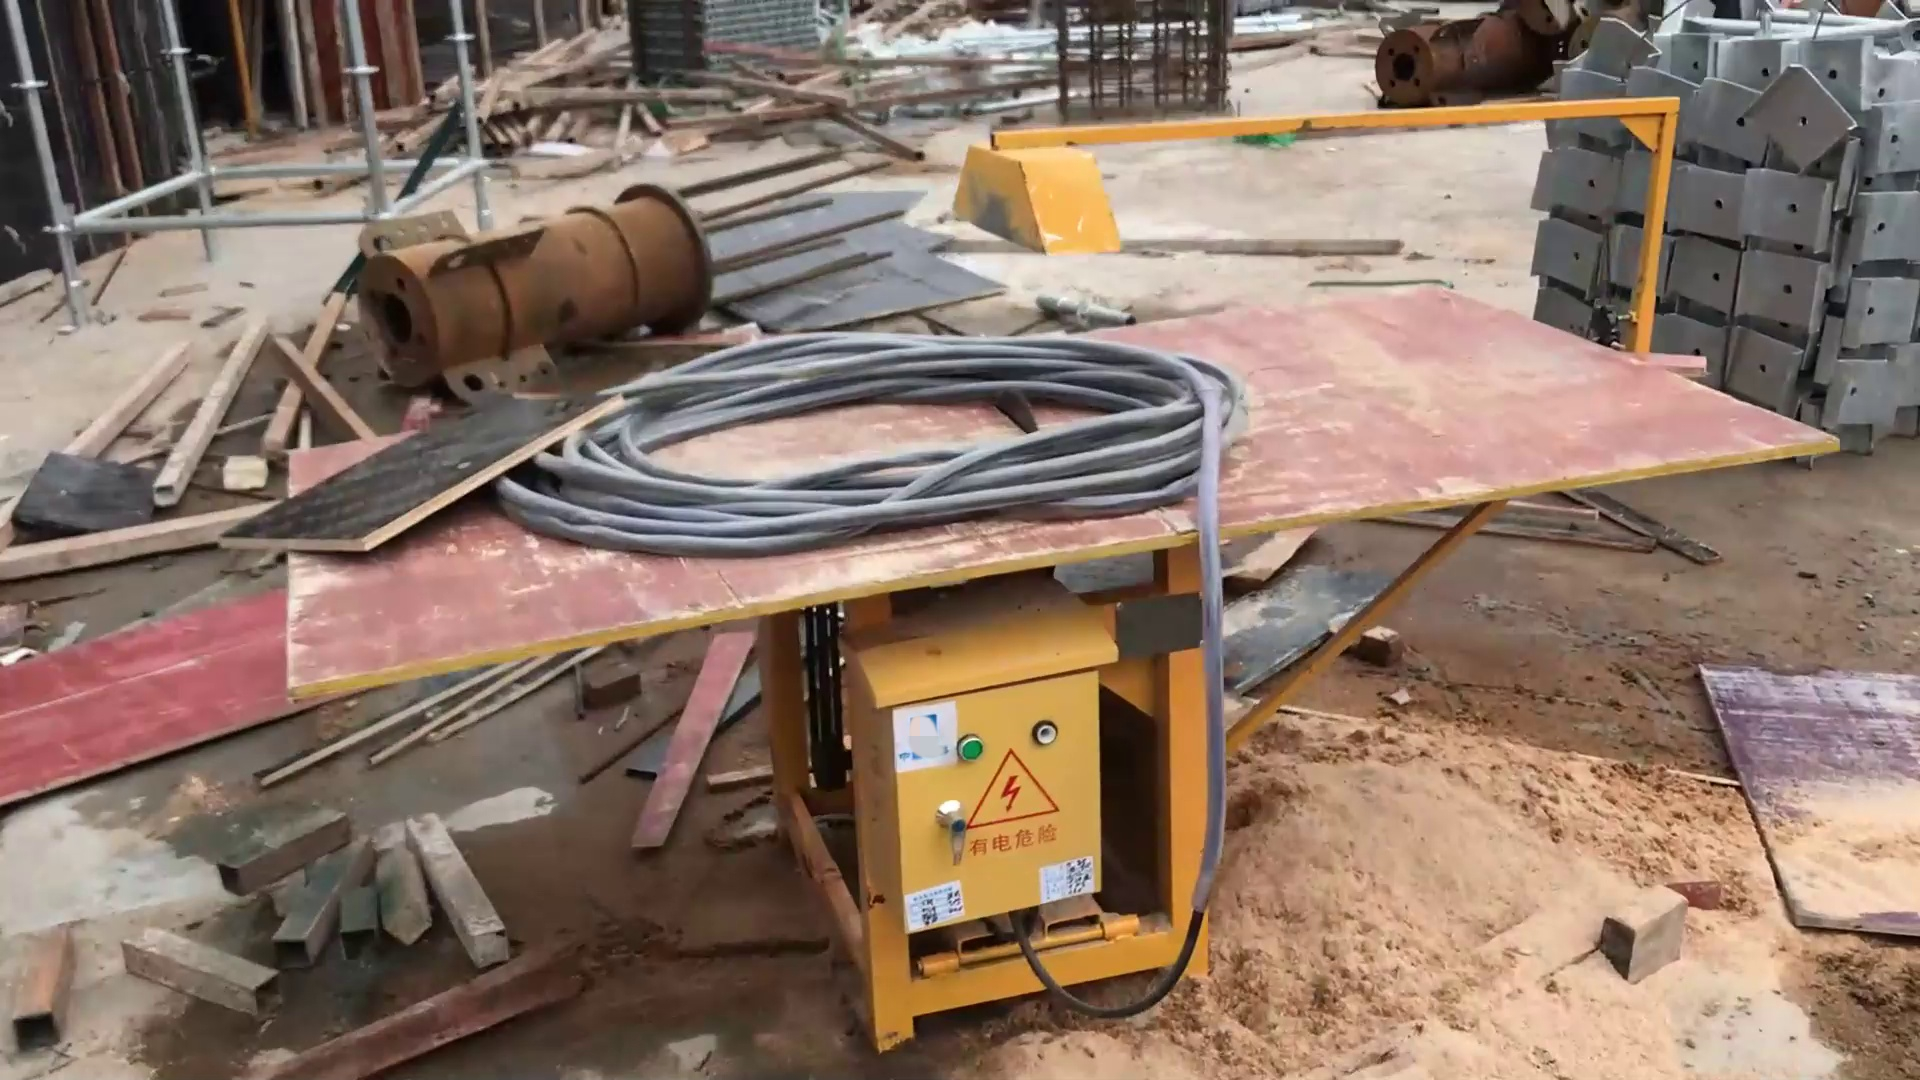cutter: (211, 262, 1855, 1056)
ebox: (840, 600, 1134, 976)
scaffold: (1528, 4, 1904, 444), (629, 1, 832, 74)
